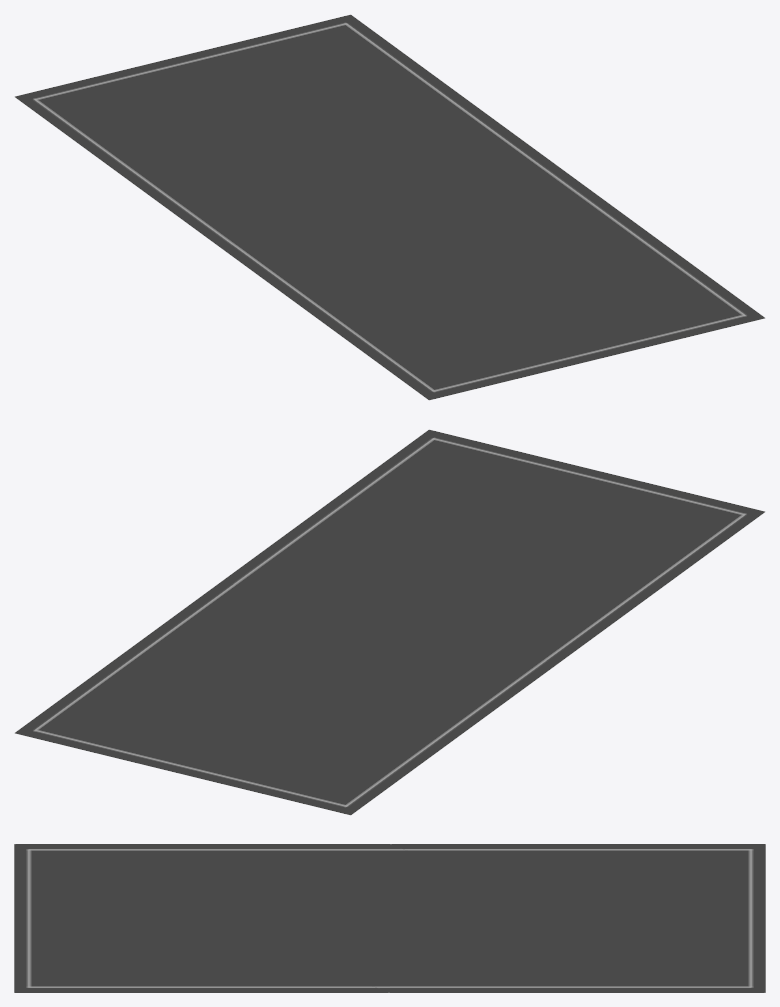
File: M_H_rug_01.fbx
The picture shows the model from 3 angles, top to bottom: view 1: azimuth 30°, elevation 25°; view 2: azimuth 150°, elevation 25°; view 3: azimuth 270°, elevation 25°; orthographic projection. The views are drawn at different scales.
Visible parts, largest first — view 1: M_H_rug_01; view 2: M_H_rug_01; view 3: M_H_rug_01.
Part boxes in pixels (x1,y1,x2,y2): M_H_rug_01: [14, 14, 765, 400]; M_H_rug_01: [14, 429, 765, 815]; M_H_rug_01: [14, 844, 765, 992].
Bounding box in the file's own units: 250 × 3.27e-14 × 533.
